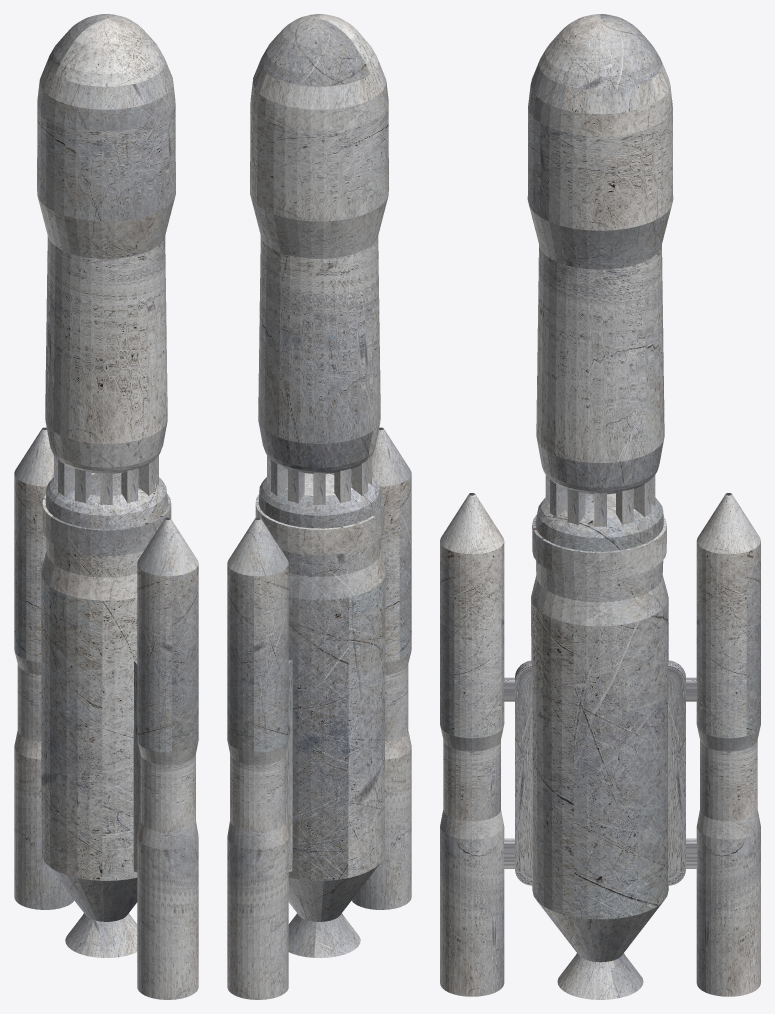
File: rocket.obj
3 renders of one model, left to right at view 1: azimuth 30°, elevation 25°; view 2: azimuth 150°, elevation 25°; view 3: azimuth 270°, elevation 25°, orthographic. The views are drawn at different scales.
Parts seen in each view (by area): view 1: Body_Sphere, Side_Cylinder; view 2: Body_Sphere, Side_Cylinder; view 3: Body_Sphere, Side_Cylinder.
Boxes of the visible parts, left/top/right/bottom form: Body_Sphere: left=37, top=14, right=175, bottom=957; Side_Cylinder: left=14, top=427, right=198, bottom=999; Body_Sphere: left=250, top=14, right=388, bottom=957; Side_Cylinder: left=227, top=427, right=411, bottom=999; Body_Sphere: left=527, top=14, right=673, bottom=999; Side_Cylinder: left=440, top=493, right=760, bottom=996.
Bounding box in the file's own units: 0.2265 × 1.66 × 0.5.
